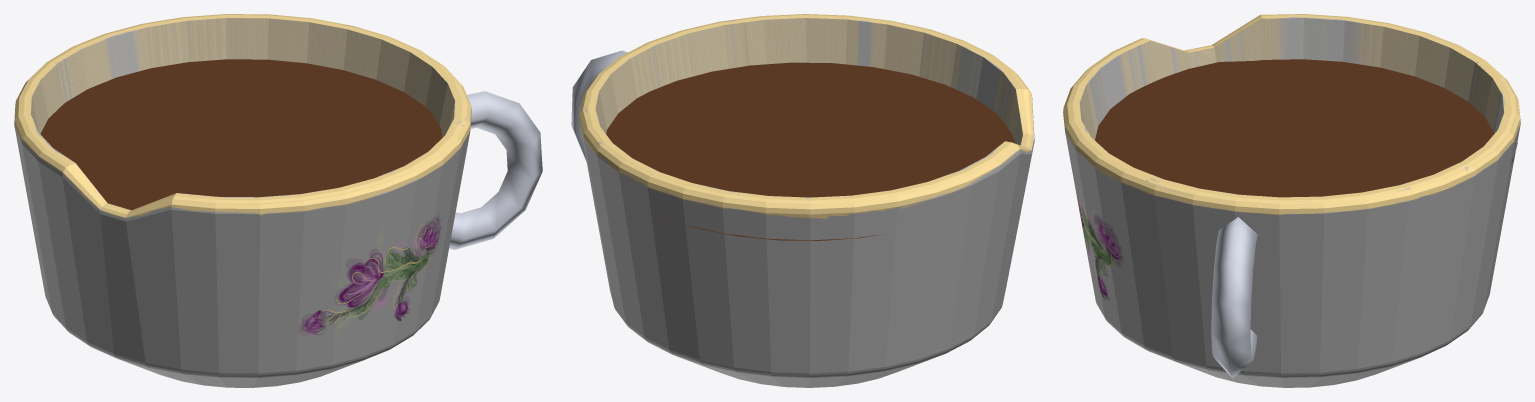
File: taza-web.glb
3 renders of one model, left to right at view 1: azimuth 30°, elevation 25°; view 2: azimuth 150°, elevation 25°; view 3: azimuth 270°, elevation 25°, orthographic.
Visible parts, largest first — view 1: Circle.004; view 2: Circle.004; view 3: Circle.004.
Boxes of the visible parts, x1,y1,x2,y2 form: Circle.004: (14,14,542,387); Circle.004: (571,14,1034,387); Circle.004: (1063,14,1520,387).
Bounding box in the file's own units: 1.29 × 0.6014 × 1.1.
Materials: 3 (1 with a texture image).
